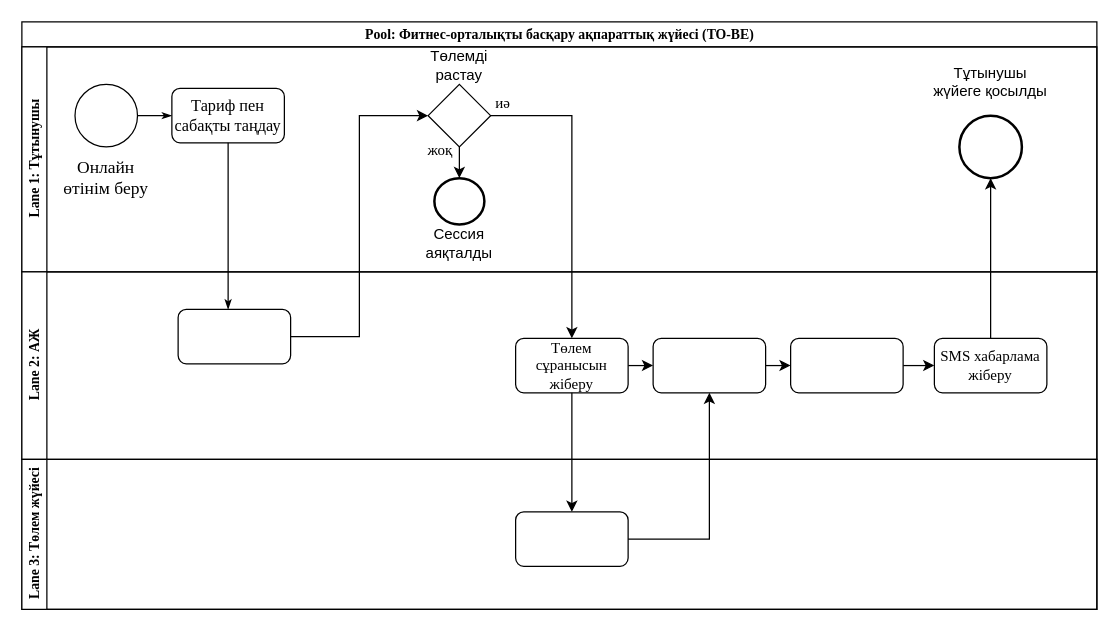
This 1119x631 diagram has some shape labels left out. Each missing label, with the centre of its shape:
QR/картамен төлемді өңдеу: the point at 571,538
Бос орындар мен кестені көрсету: the point at 234,336
Виртуалды абонемент пен QR құру: the point at 709,365
Турникетке рүқсат жазу: the point at 846,365
